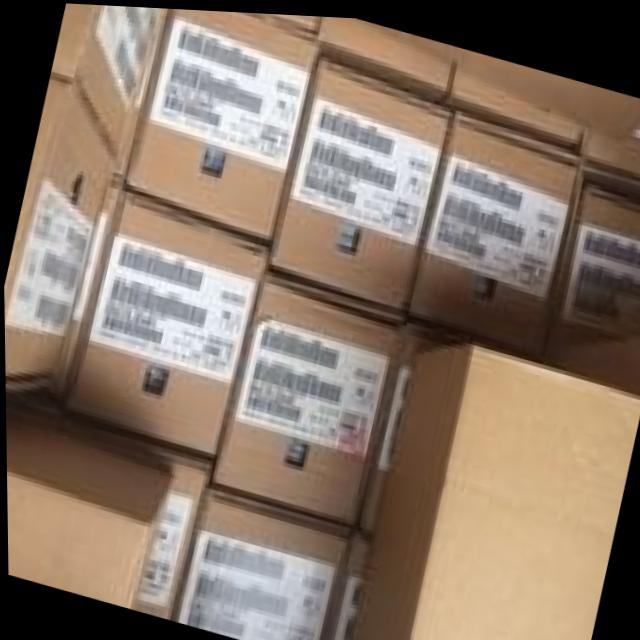box: (349, 326, 640, 640), (63, 195, 268, 452), (207, 268, 403, 521), (268, 56, 449, 305), (5, 395, 209, 615), (128, 7, 318, 237), (408, 104, 584, 347), (3, 78, 115, 392), (364, 16, 640, 134), (5, 414, 172, 609), (173, 486, 347, 640), (357, 318, 470, 530), (50, 3, 164, 156), (546, 176, 640, 360), (56, 186, 126, 395), (317, 13, 453, 99), (441, 65, 582, 140), (111, 7, 169, 186), (323, 532, 372, 640), (579, 120, 640, 189), (267, 11, 321, 31)
